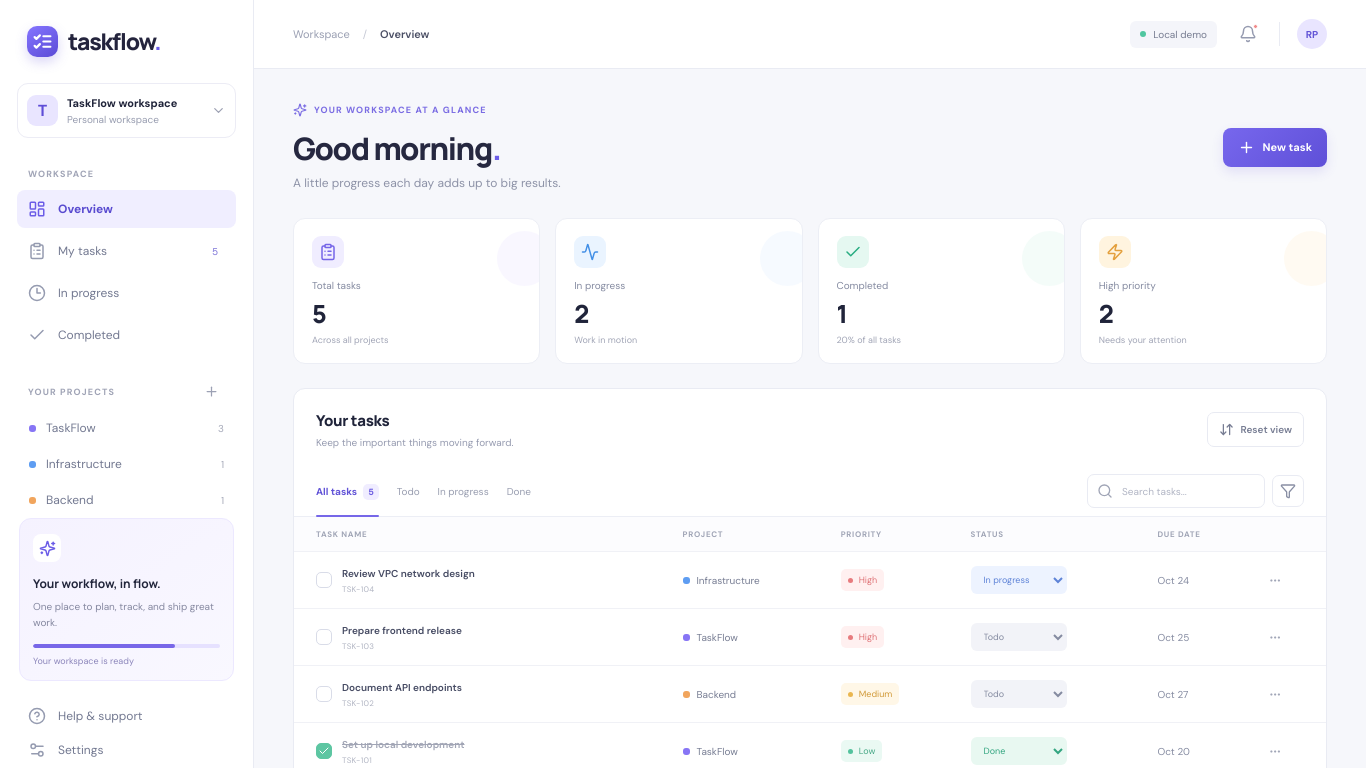
Test: TaskFlow application › updates a task status
This screenshot has width=1366, height=768.
Select "Done" in the dropdown named "Status for Review VPC network design" at (1018, 580), box [970,566,1066,594]
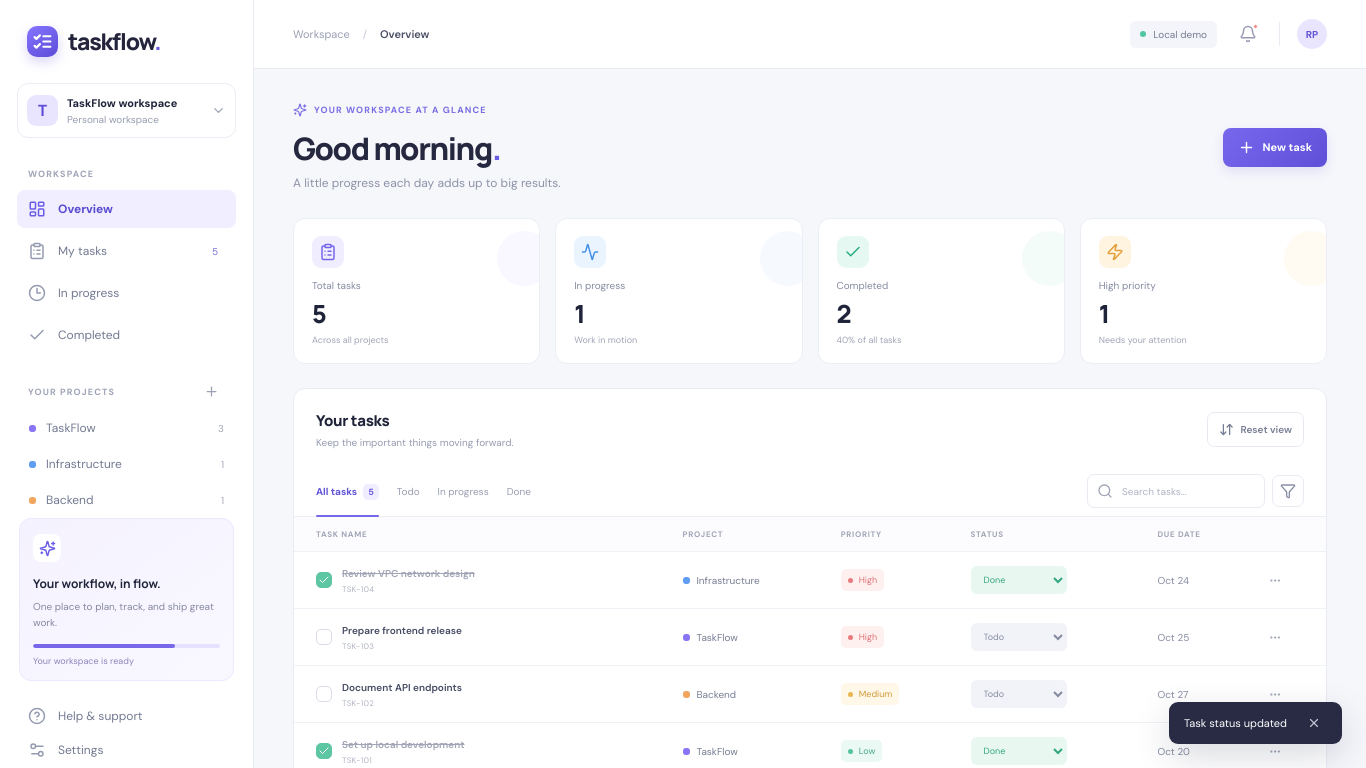
Now the text "Task status updated" is shown, box [1169,702,1342,744]
